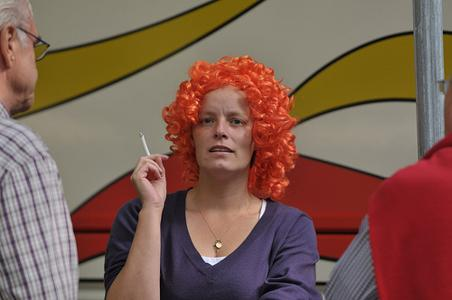person: (103, 55, 323, 300)
